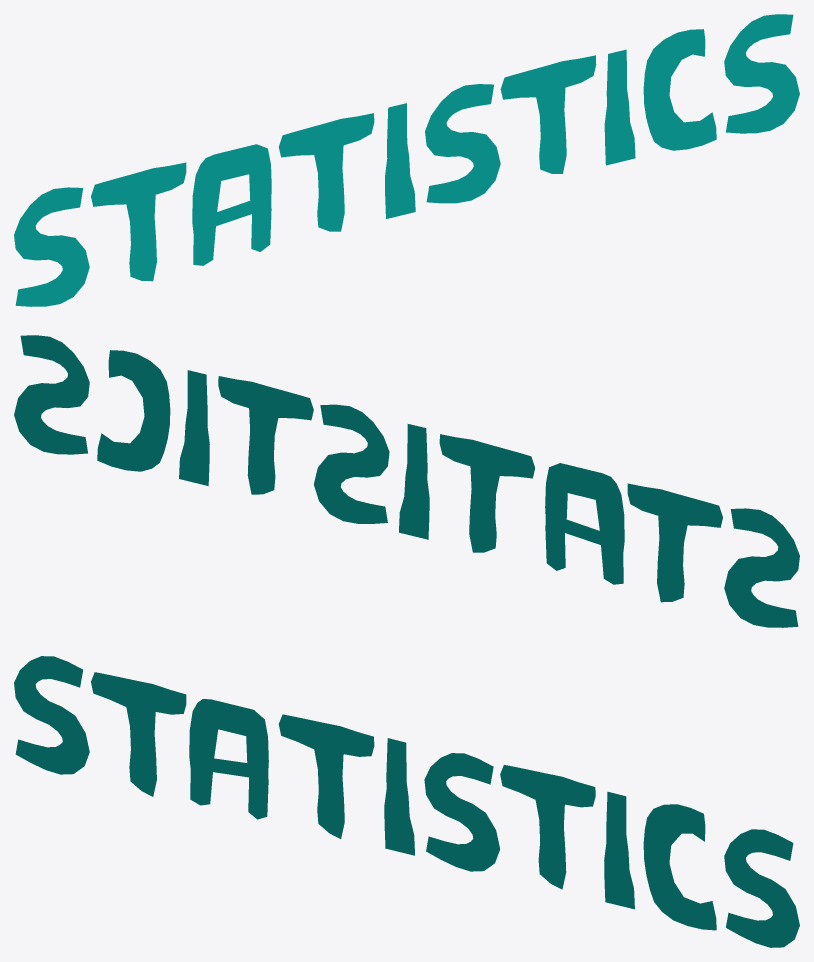
The model's file is mesh_settingsscreen_text3.fbx.
3 views of the same model, one above another, from view 1: azimuth 30°, elevation 25°; view 2: azimuth 150°, elevation 25°; view 3: azimuth 330°, elevation 25° (orthographic).
Parts seen in each view (by area): view 1: mesh_settingsscreen_text5; view 2: mesh_settingsscreen_text5; view 3: mesh_settingsscreen_text5.
Boxes of the visible parts, box(x1,y1,x2,y2) form: mesh_settingsscreen_text5: box(14, 14, 799, 306); mesh_settingsscreen_text5: box(14, 335, 799, 627); mesh_settingsscreen_text5: box(14, 656, 799, 947).
Size of the model in its own units: 0.1447 by 0.0213 by 0.000471.
